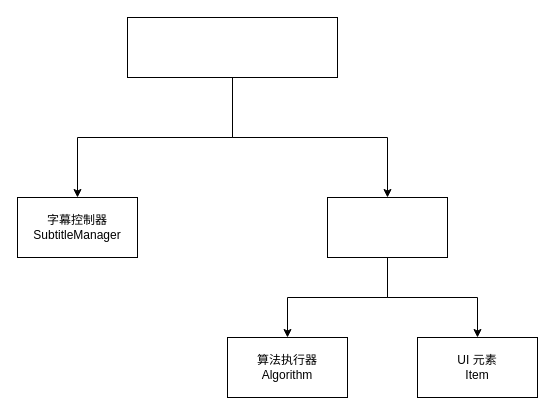
Image size: 555x415. Some labels were removed from this diagram. Here are the shapes that lost their labels. From the top down, the centre of each, then its label:
At point (232, 47): "主控器 PlaybackManager".
At point (387, 227): "场景控制器 ItemManager".
